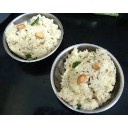venpongal: (65, 51, 113, 105), (7, 18, 56, 59)
